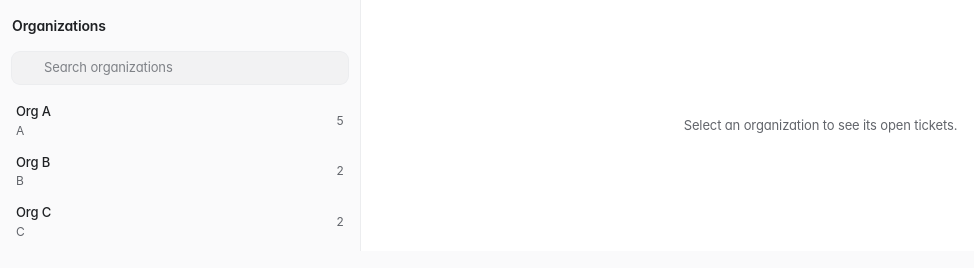
OrgsScreen (section 12) › filters through the model and shows the no-match text (ORG-3, ORG-4)
Type "zzz" into the search field labelled "Search organizations".
click(191, 68); type("zzz")  # box [44,58,338,78]
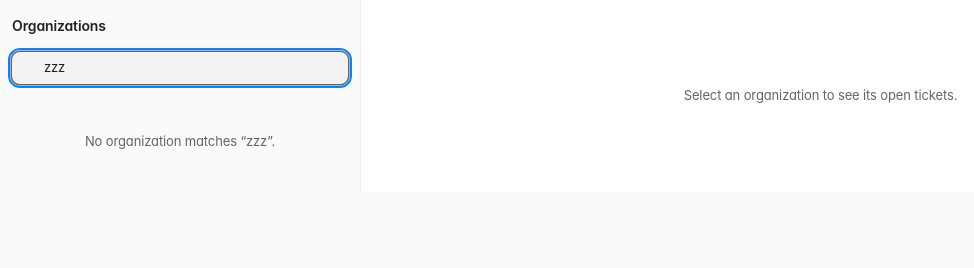
Now the text "No organization matches “zzz”." is shown, box [85,132,275,152]
